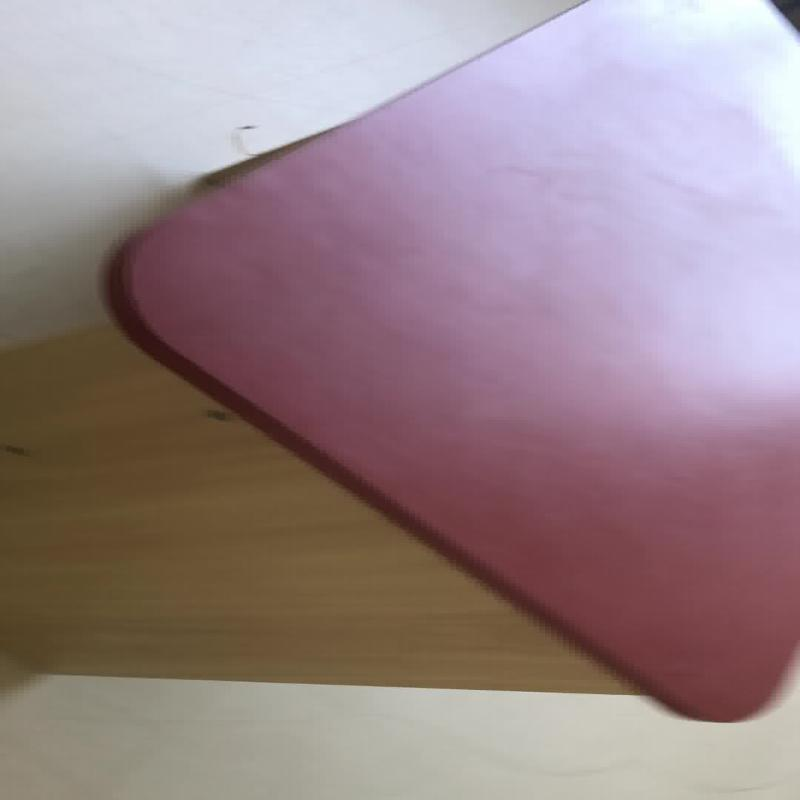sponge: (96, 0, 796, 722)
